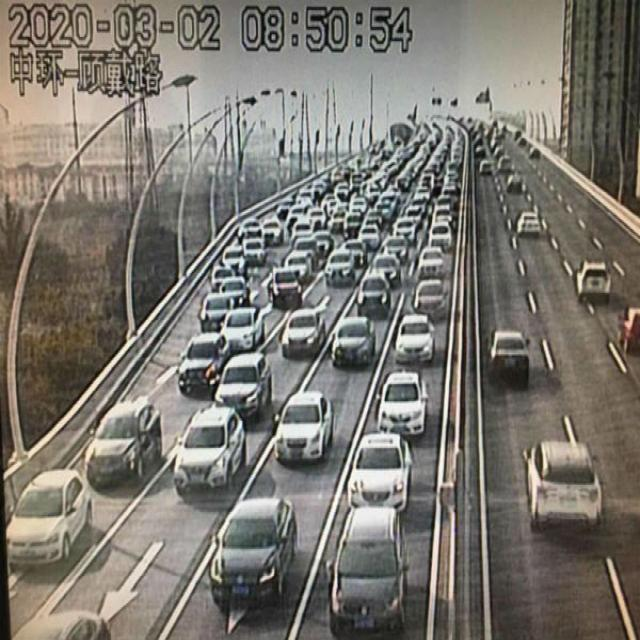point: (371, 48, 541, 204)
